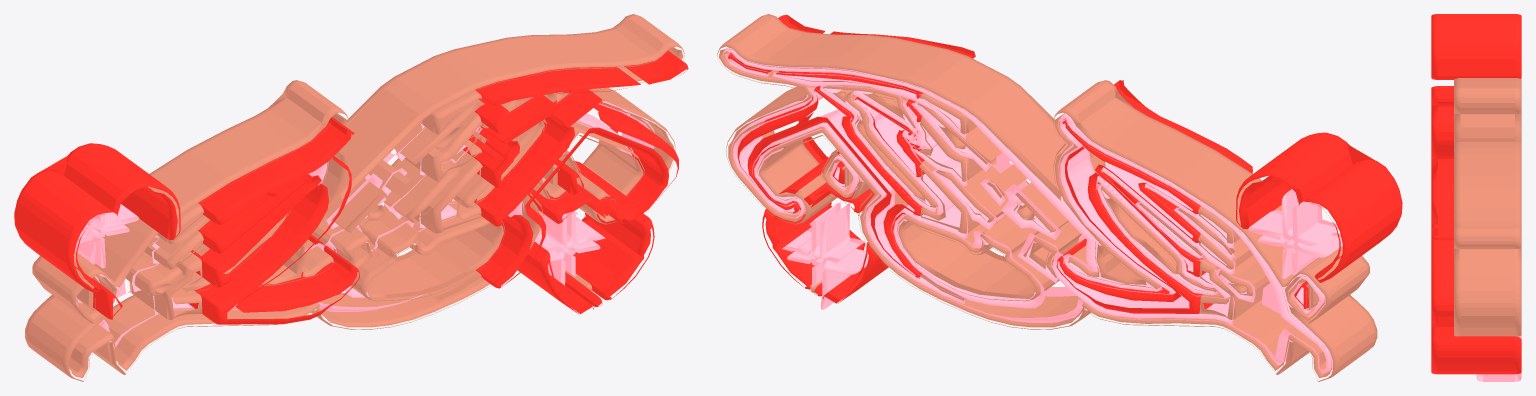
Rendered from neon.glb.
3 views of the same model, side by side, from view 1: azimuth 30°, elevation 25°; view 2: azimuth 150°, elevation 25°; view 3: azimuth 270°, elevation 25° (orthographic). The views are drawn at different scales.
Parts seen in each view (by area): view 1: layer-1, layer-2, layer-0; view 2: layer-1, layer-0, layer-2; view 3: layer-1, layer-2, layer-0.
Part boxes in pixels (bbox=[...]): layer-1: bbox=[25, 14, 684, 381]; layer-2: bbox=[14, 50, 688, 324]; layer-0: bbox=[75, 66, 655, 348]; layer-1: bbox=[717, 14, 1377, 381]; layer-0: bbox=[722, 47, 1342, 373]; layer-2: bbox=[728, 14, 1402, 313]; layer-1: bbox=[1454, 78, 1521, 336]; layer-2: bbox=[1431, 14, 1521, 374]; layer-0: bbox=[1476, 78, 1521, 381].
Size of the model in its own units: 1 by 0.3945 by 0.16.
